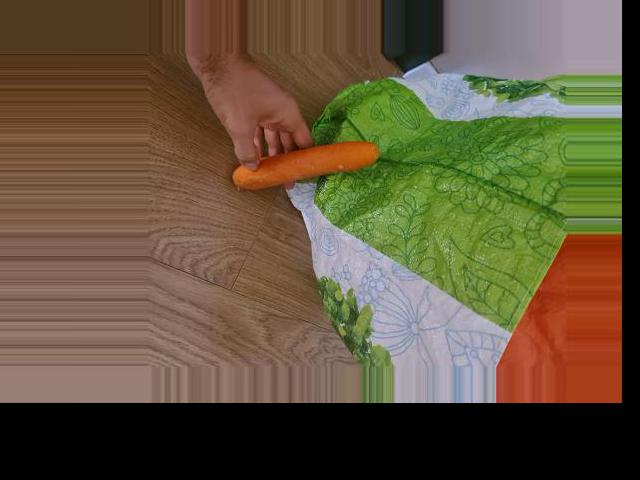carrot: (228, 147, 375, 192)
